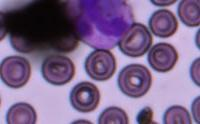N: (70, 0, 134, 50)
